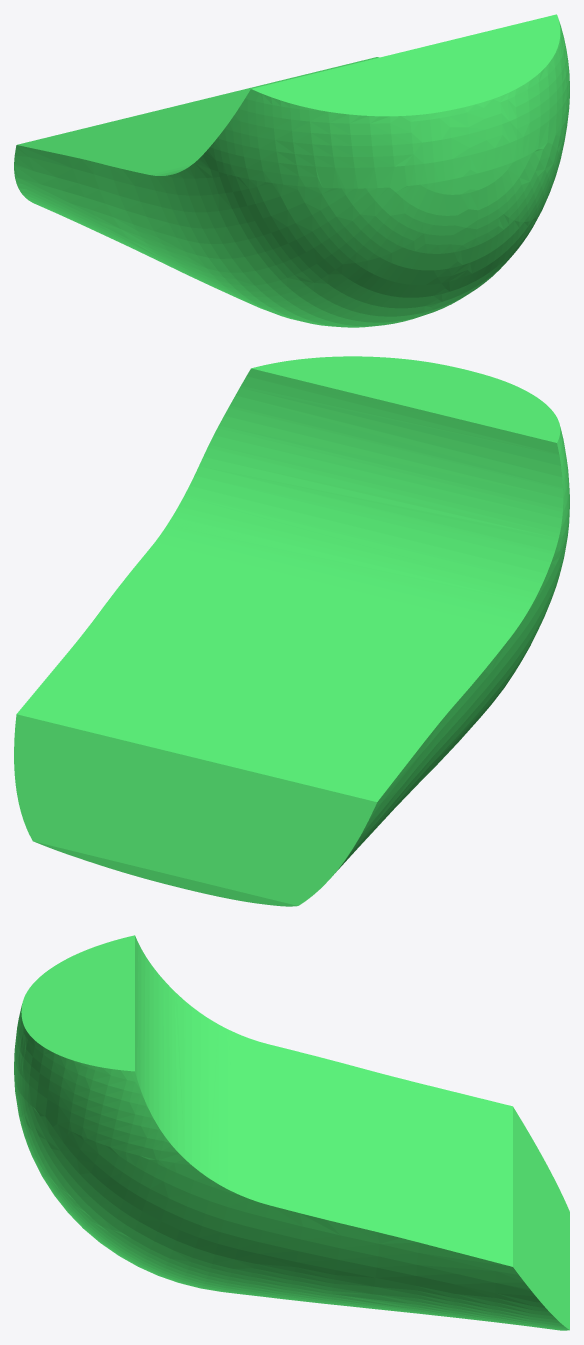
File: right_pinky_elastomer_render.glb
3 views of the same model, one above another, from view 1: azimuth 30°, elevation 25°; view 2: azimuth 150°, elevation 25°; view 3: azimuth 270°, elevation 25° (orthographic). The views are drawn at different scales.
Parts seen in each view (by area): view 1: world; view 2: world; view 3: world.
Part boxes in pixels (x1,y1,x2,y2): world: (14, 14, 569, 327); world: (14, 356, 569, 906); world: (14, 935, 569, 1330).
Bounding box in the file's own units: 0.0137 × 0.0116 × 0.0199.
